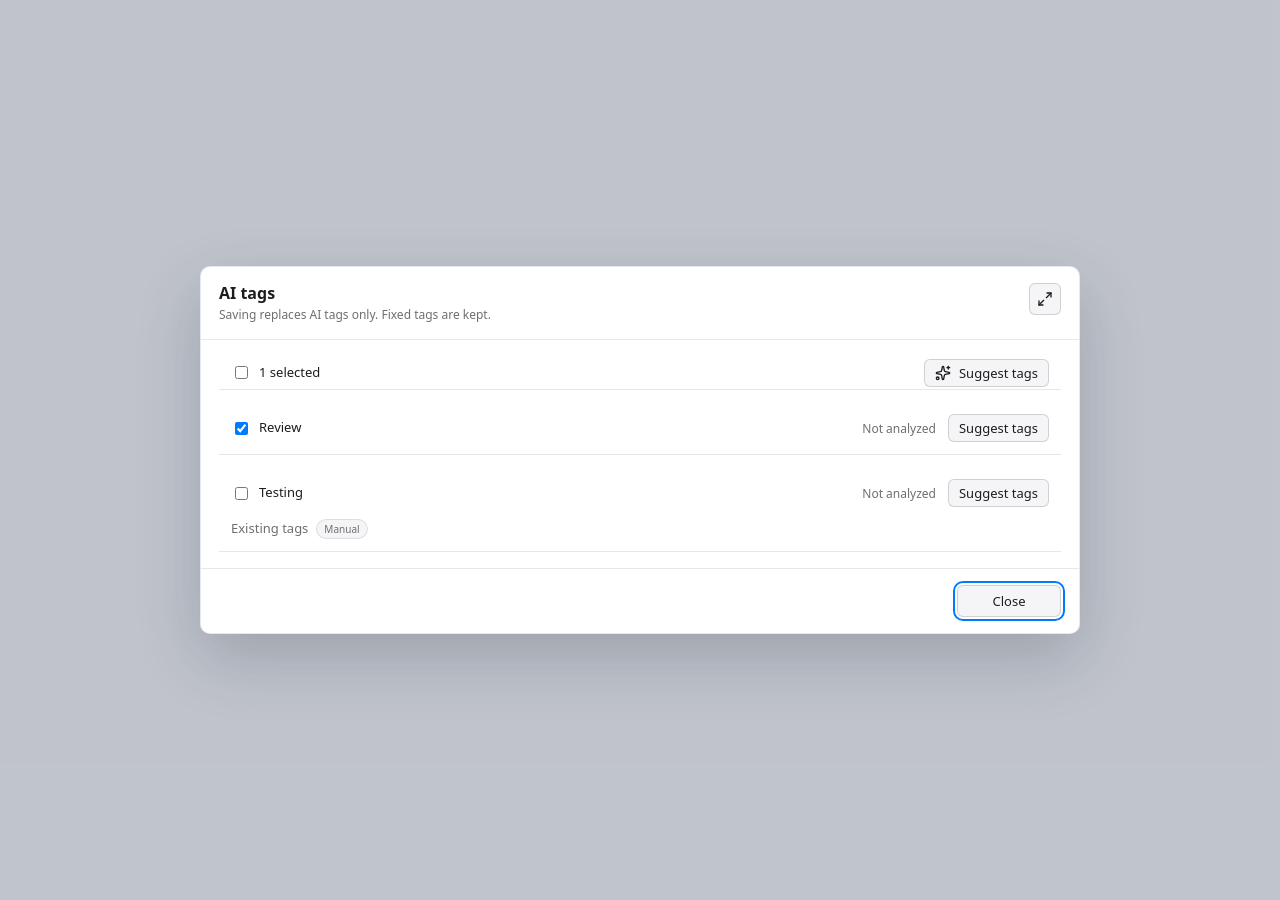
AI tag review › defaults to untagged Skills, generates with one click and saves only accepted suggestions
Expected: the checkbox named "Select Review" is enabled, [235,422,248,434]
Expected: the checkbox named "Select Review" is checked, [235,422,248,434]
Click the button "Suggest tags" in the row of "1 selected": (986, 372) [924,358,1049,386]
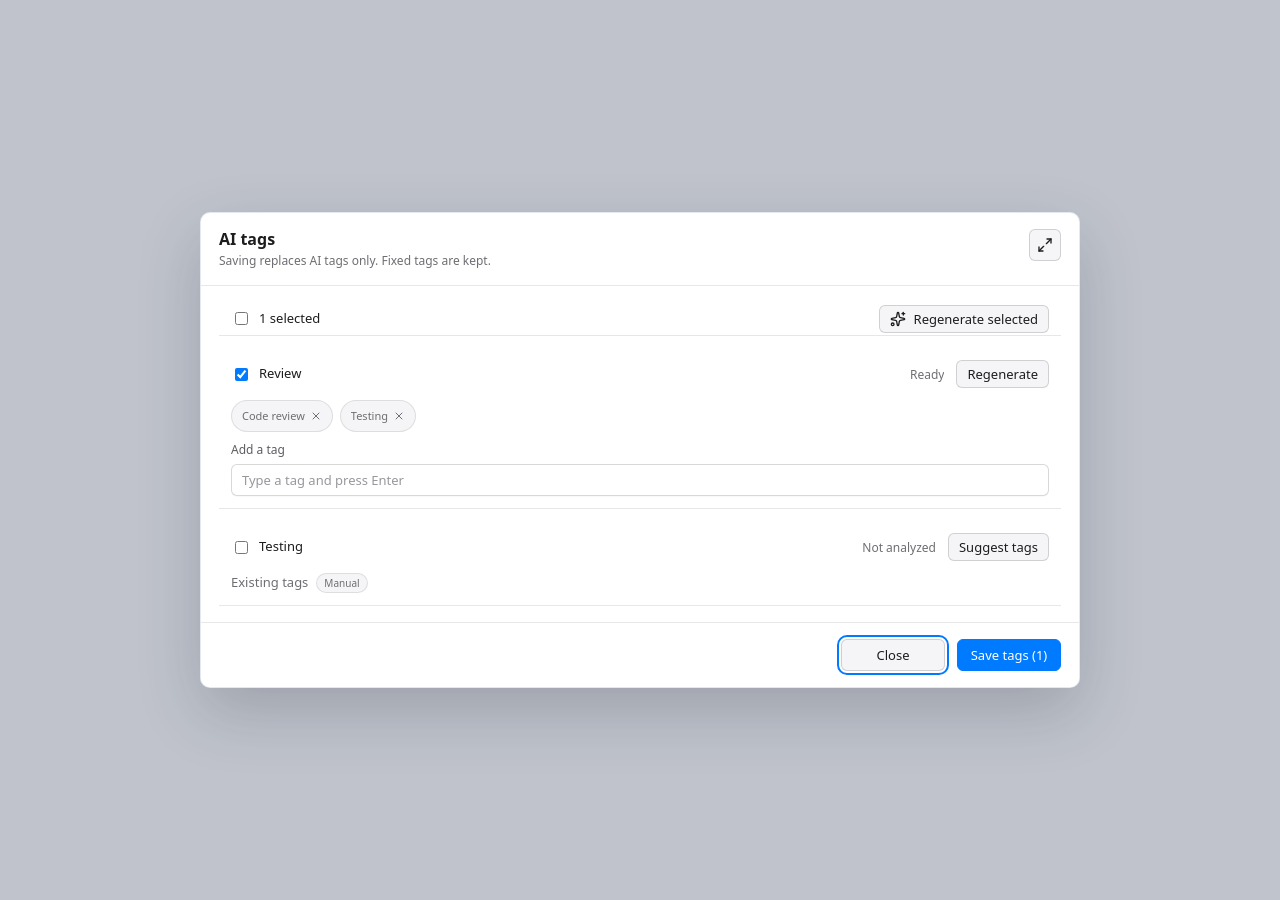
Click the button with aria-label "Remove tag Testing": (378, 416) [340,400,416,432]
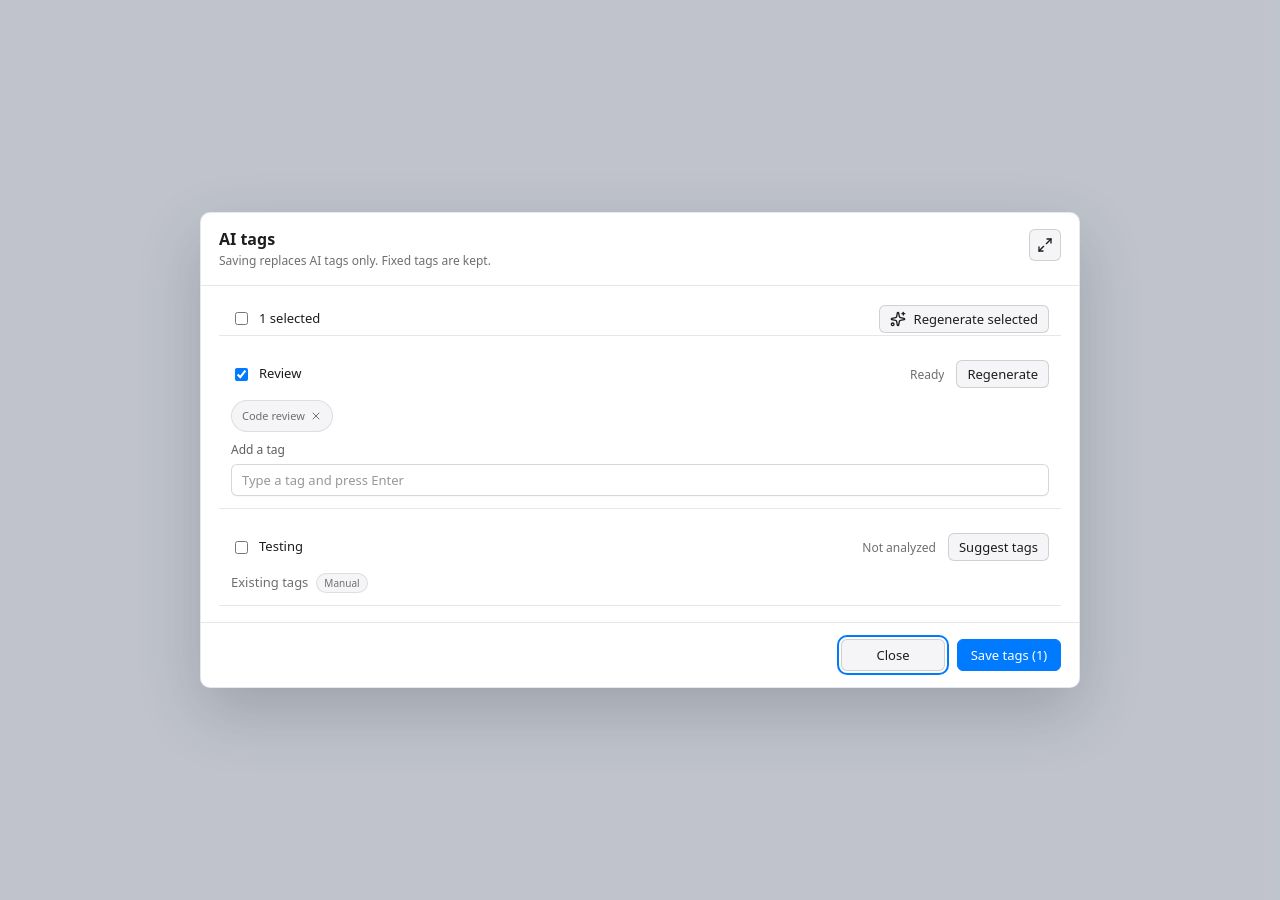
Click the button "Save tags (1)": (1009, 655) [957,639,1061,671]
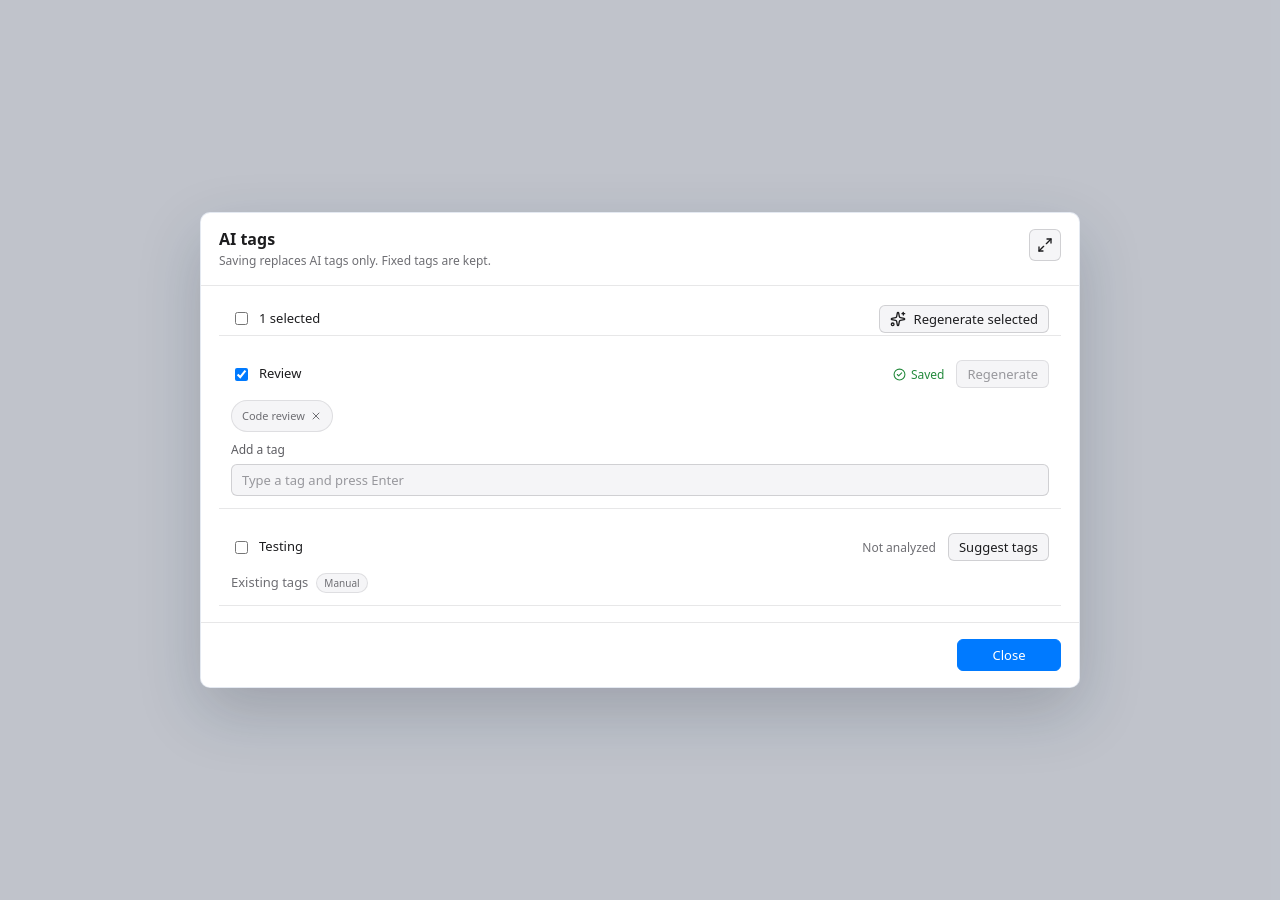
Expected: the text "Saved" is shown, [911,366,944,382]
